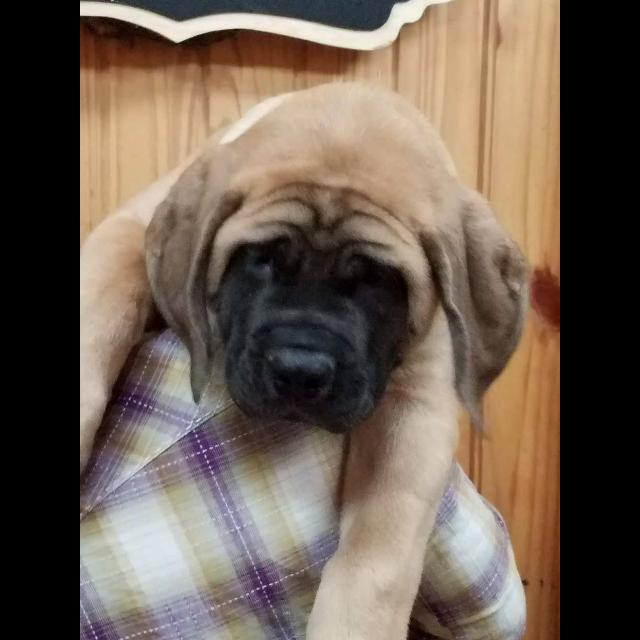mastiff: (82, 81, 533, 640)
